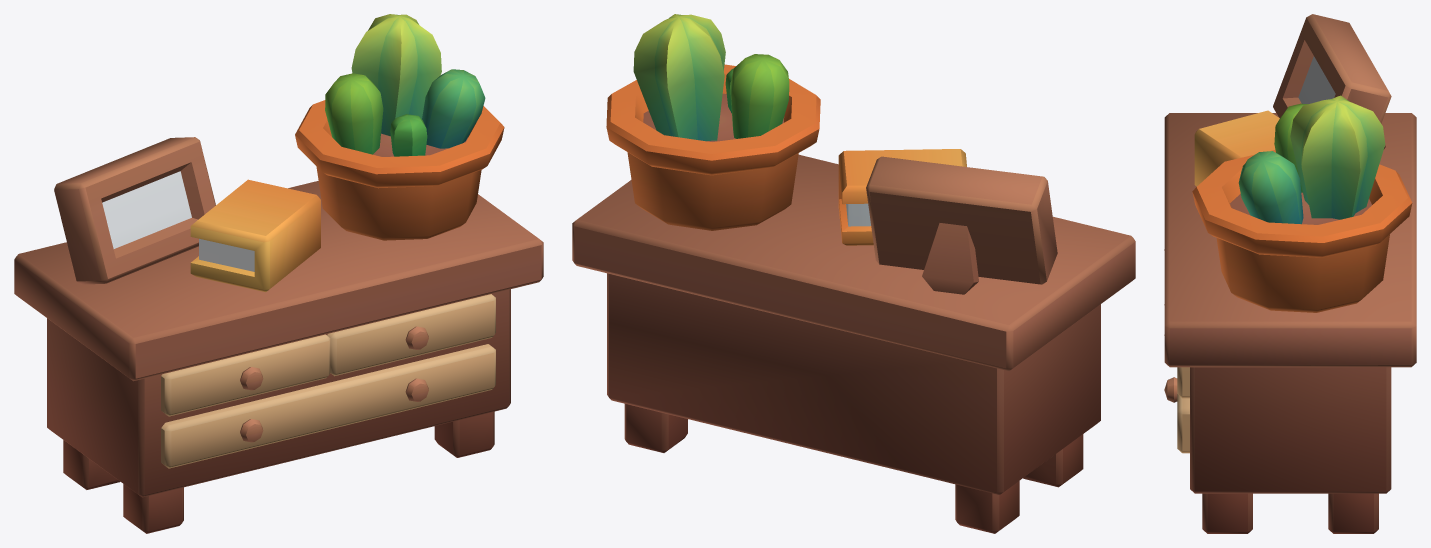
The model's file is cabinet_medium_decorated.glb.
3 renders of one model, left to right at view 1: azimuth 30°, elevation 25°; view 2: azimuth 150°, elevation 25°; view 3: azimuth 270°, elevation 25°, orthographic. The views are drawn at different scales.
Visible parts, largest first — view 1: cabinet_medium_decorated; view 2: cabinet_medium_decorated; view 3: cabinet_medium_decorated.
Boxes of the visible parts, bbox=[...] form: cabinet_medium_decorated: bbox=[14, 14, 543, 533]; cabinet_medium_decorated: bbox=[572, 14, 1135, 533]; cabinet_medium_decorated: bbox=[1164, 14, 1416, 533].
Size of the model in its own units: 2.04 by 1.83 by 1.
Materials: 1 (1 with a texture image).
